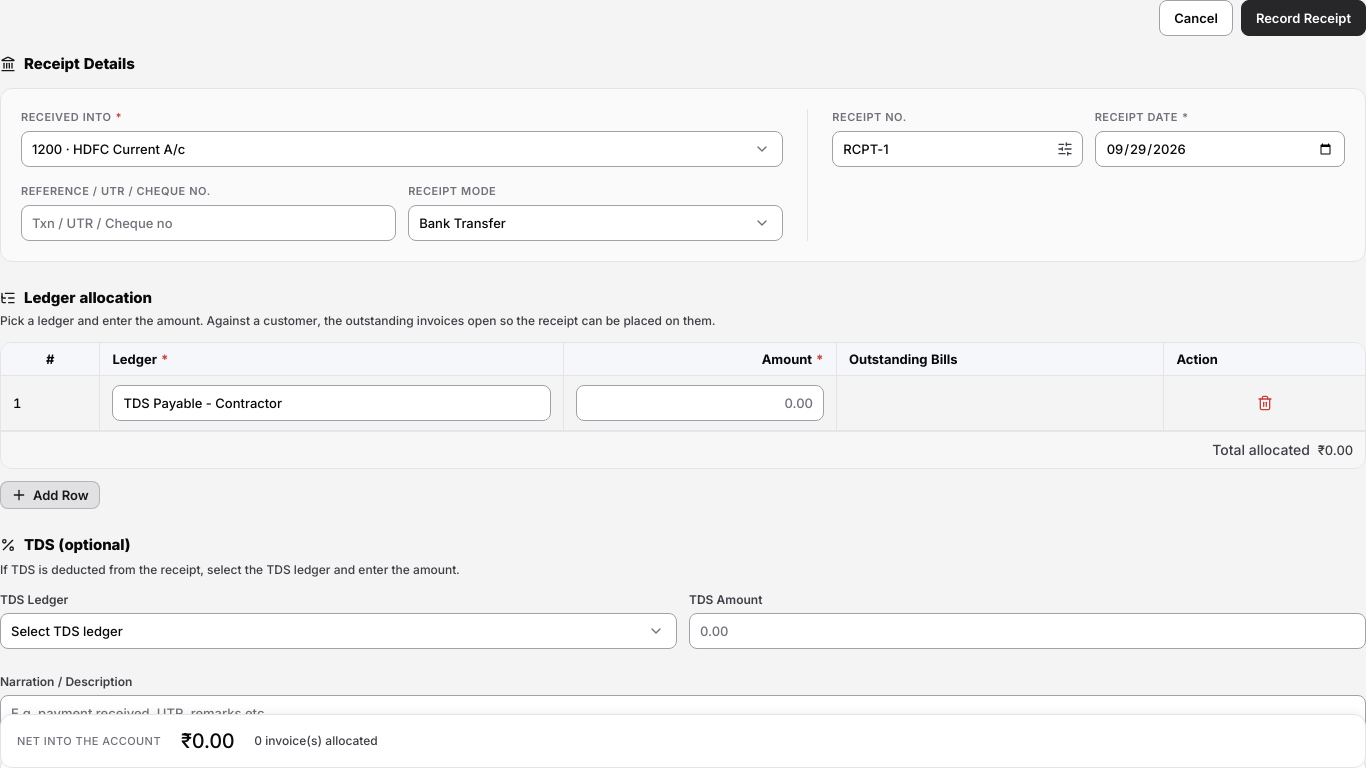
Test: what the receipt offers › offers what the invoice expected the customer to withhold
Type "ABC" into the dropdown named "Account, allocation row 1" at (332, 403), box x1=112 y1=385 x2=551 y2=421
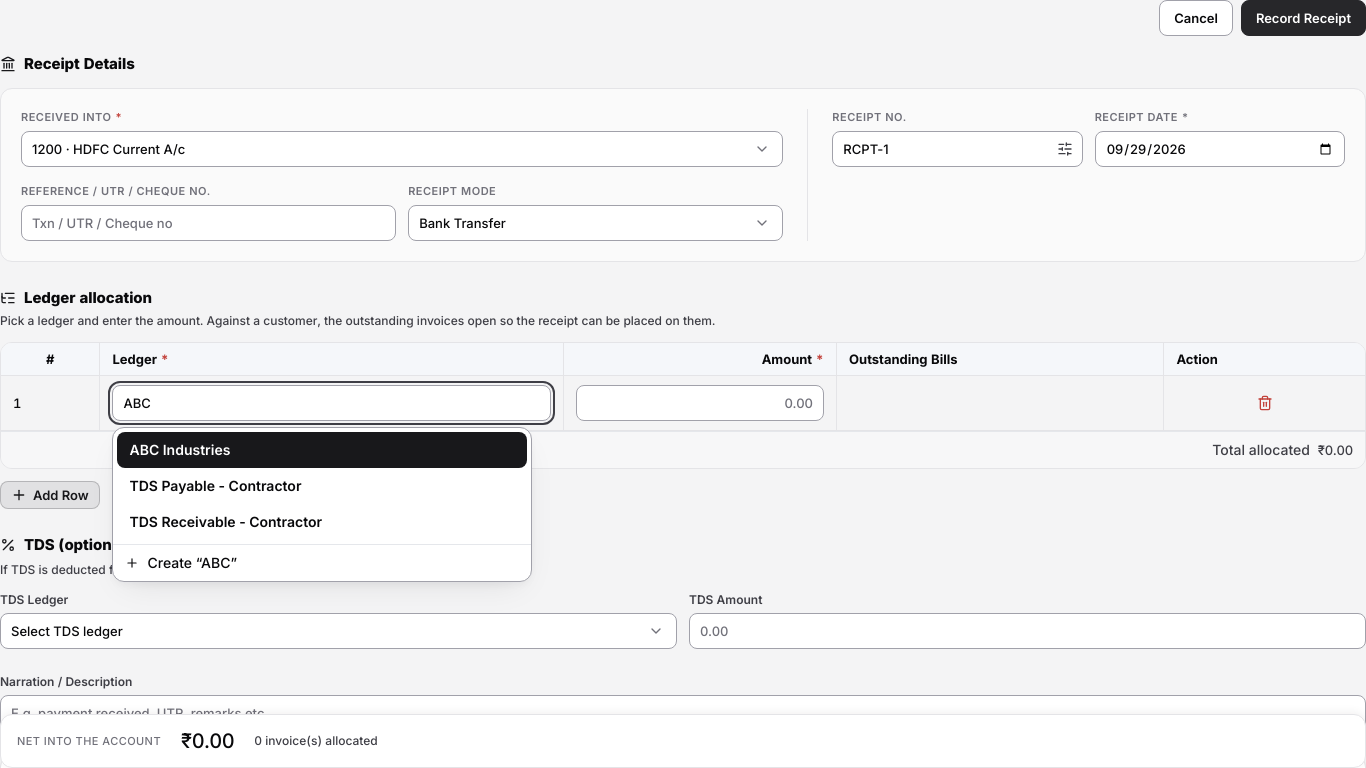
Click the option "ABC Industries" at (180, 450), box x1=118 y1=432 x2=528 y2=468
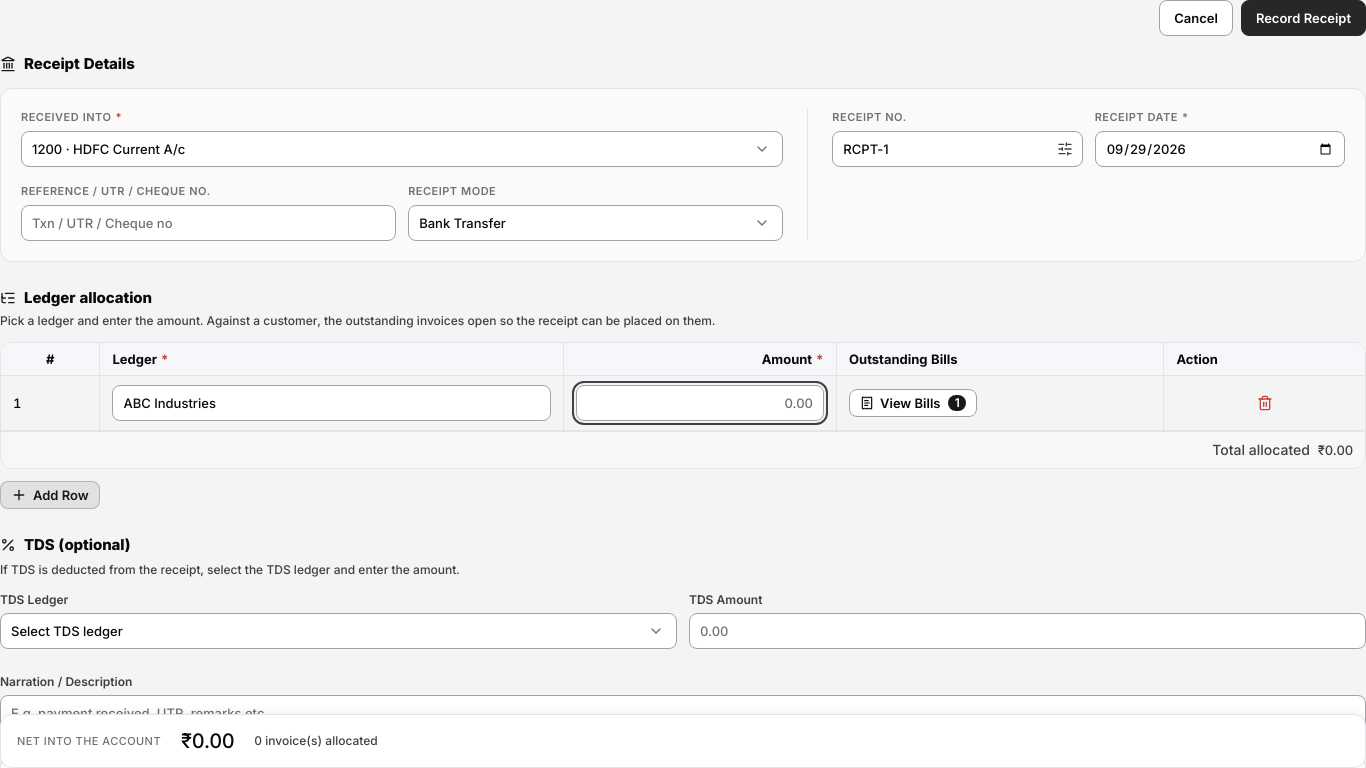
Type "118000" into the number field named "Amount, allocation row 1" at (700, 403), box x1=576 y1=385 x2=824 y2=421
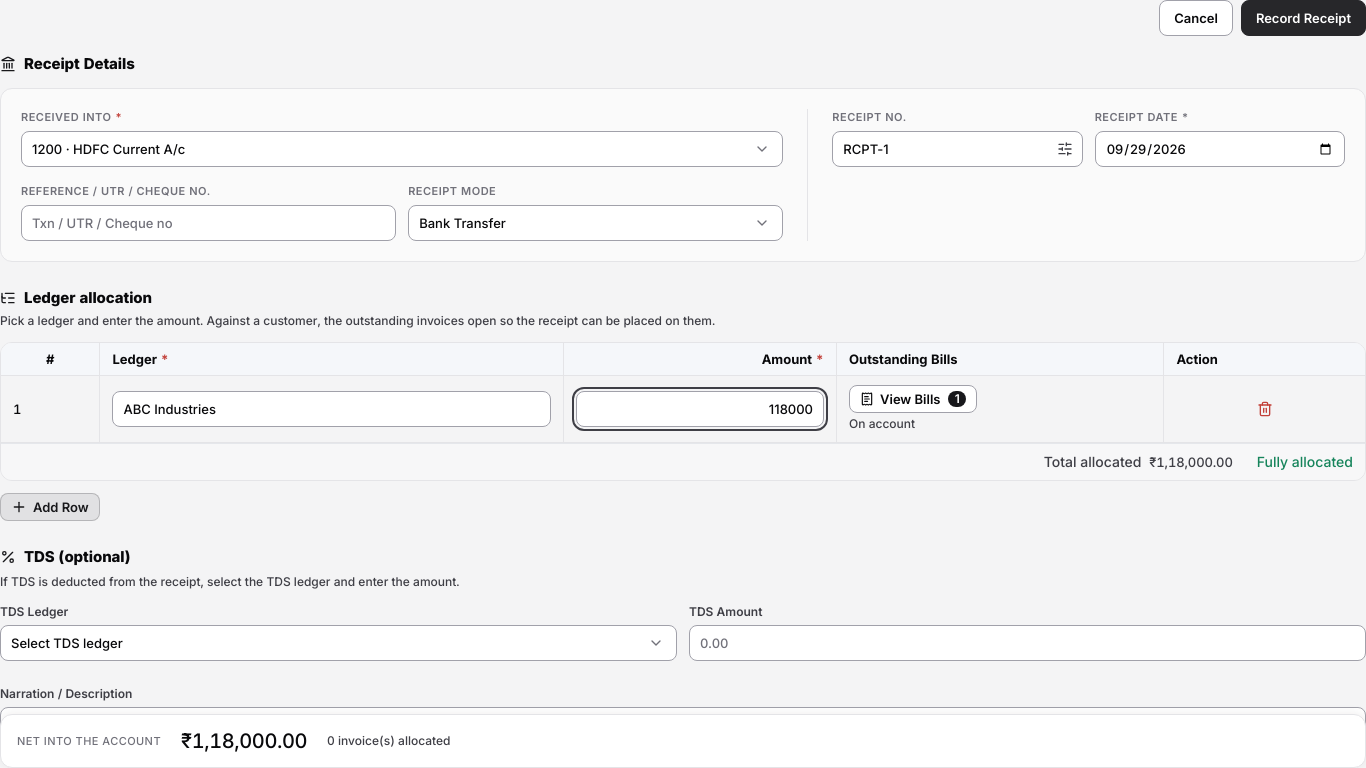
Click the button "View Bills 1" at (913, 399), box x1=849 y1=385 x2=978 y2=413
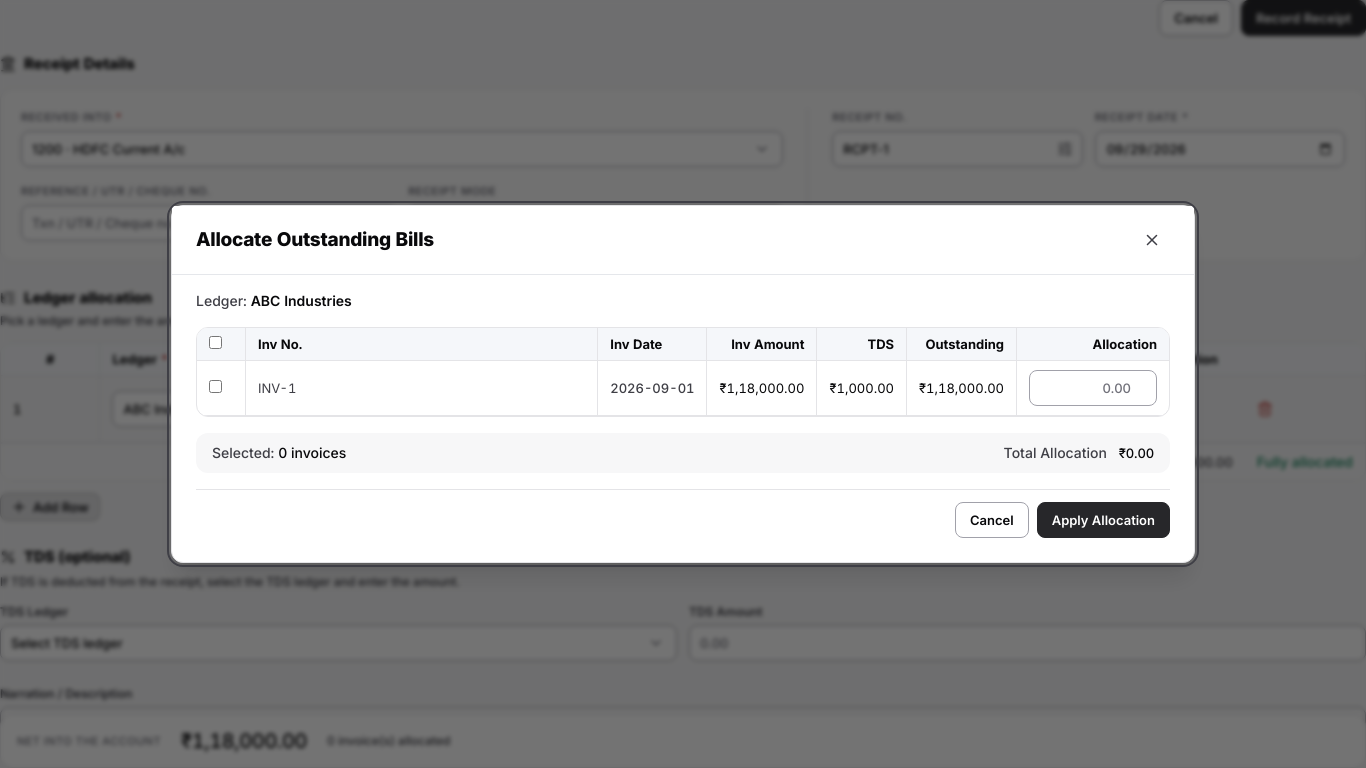
Click the checkbox named "Allocate against INV-1" at (216, 386), box x1=209 y1=380 x2=222 y2=393
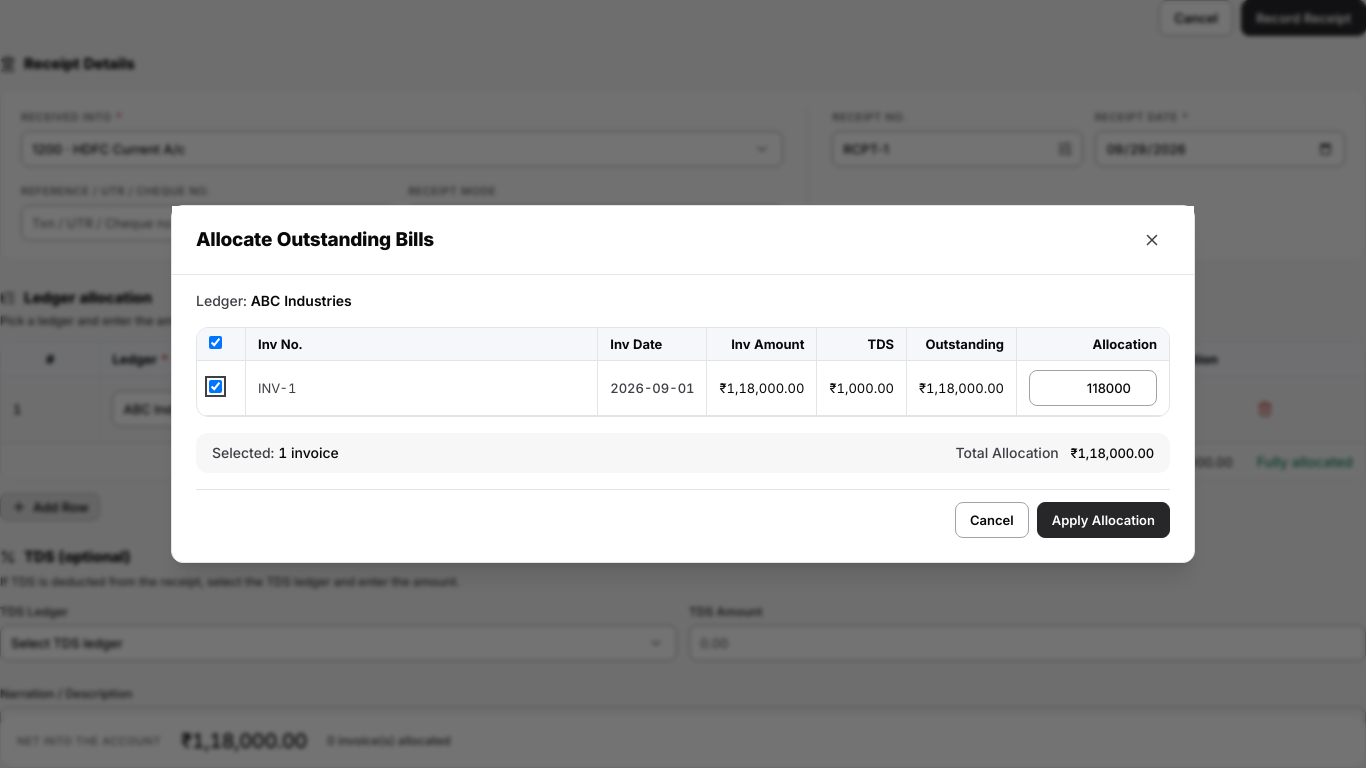
Click the button "Apply Allocation" at (1103, 520), box x1=1037 y1=502 x2=1170 y2=538
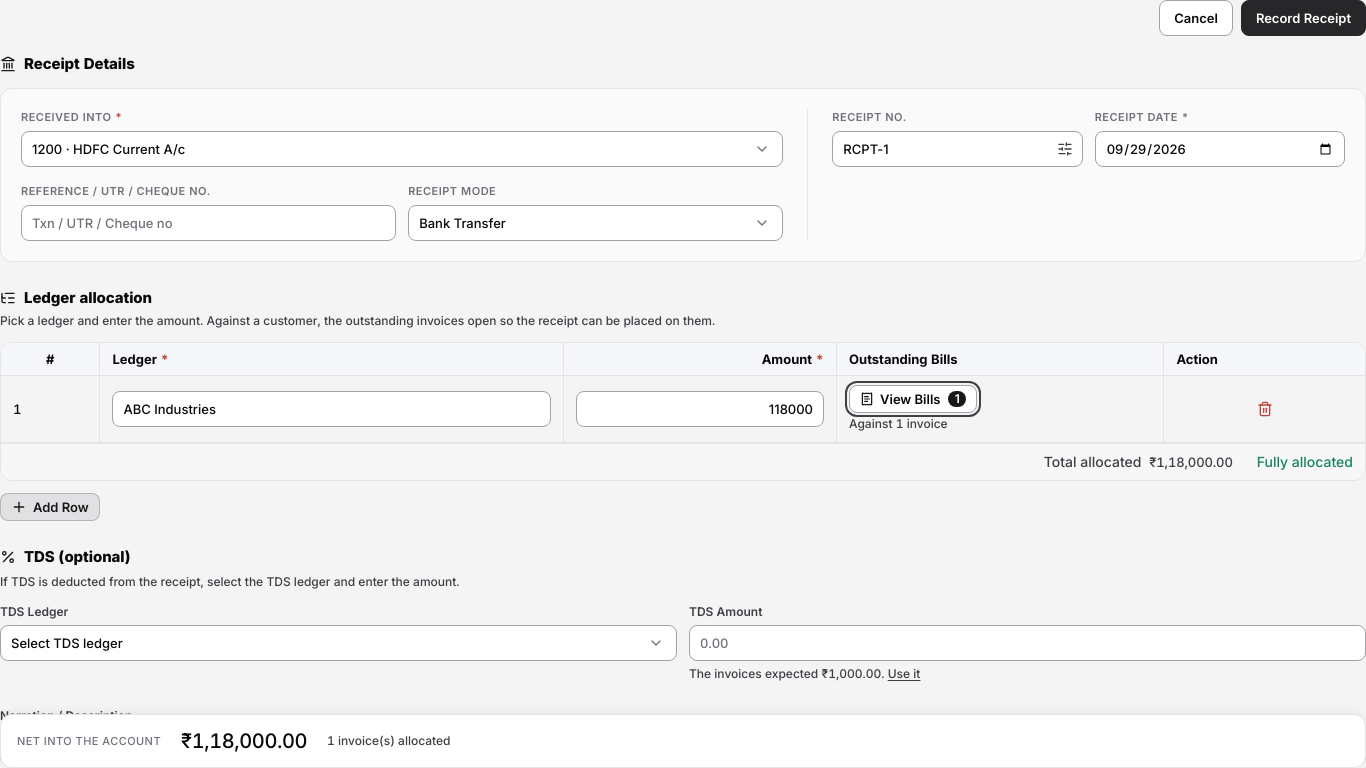
Now the text "The invoices expected ₹1,000.00. Use it" is shown, box x1=689 y1=665 x2=920 y2=683
